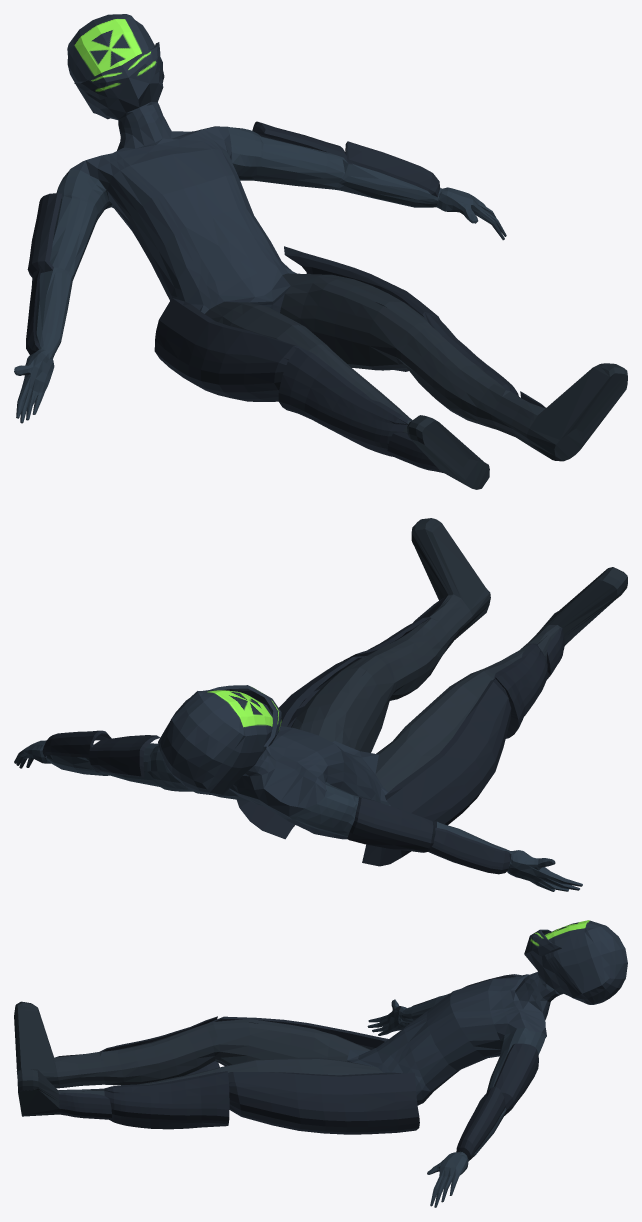
The model's file is Bastion_Die_000010.obj.
3 views of the same model, one above another, from view 1: azimuth 30°, elevation 25°; view 2: azimuth 150°, elevation 25°; view 3: azimuth 270°, elevation 25° (orthographic). The views are drawn at different scales.
Parts seen in each view (by area): view 1: Cube.002; view 2: Cube.002; view 3: Cube.002.
Boxes of the visible parts, x1=… form: Cube.002: x1=14, y1=14, x2=627, y2=489; Cube.002: x1=14, y1=518, x2=627, y2=891; Cube.002: x1=14, y1=920, x2=627, y2=1207.
Bounding box in the file's own units: 2.89 × 1.33 × 3.68.
